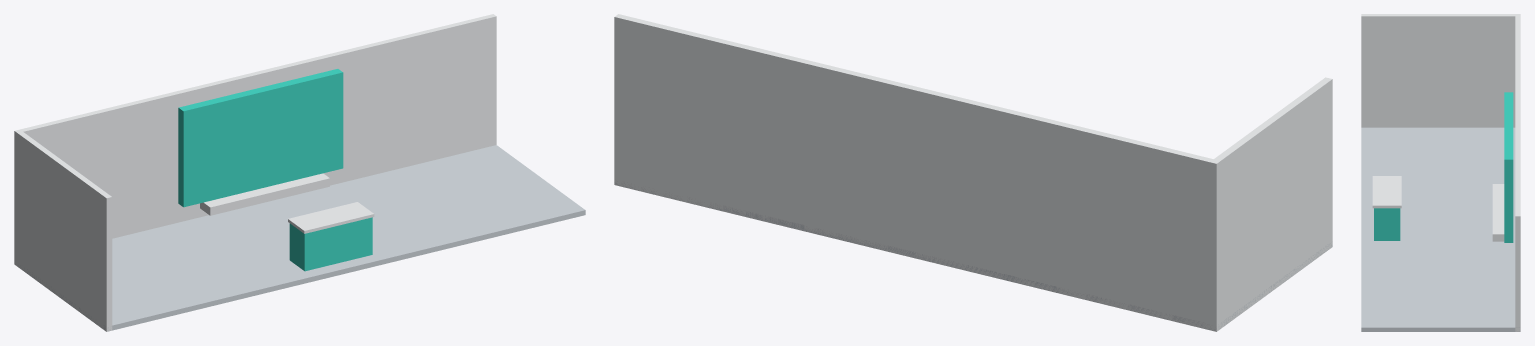
3 views of the same model, side by side, from view 1: azimuth 30°, elevation 25°; view 2: azimuth 150°, elevation 25°; view 3: azimuth 270°, elevation 25° (orthographic). The views are drawn at different scales.
Visible parts, largest first — view 1: Exhibition Booth Concept; view 2: Exhibition Booth Concept; view 3: Exhibition Booth Concept.
Part boxes in pixels (x1,y1,x2,y2): Exhibition Booth Concept: (14,14,585,331); Exhibition Booth Concept: (614,14,1332,331); Exhibition Booth Concept: (1361,14,1520,331).
Bounding box in the file's own units: 12 × 3.2 × 4.
